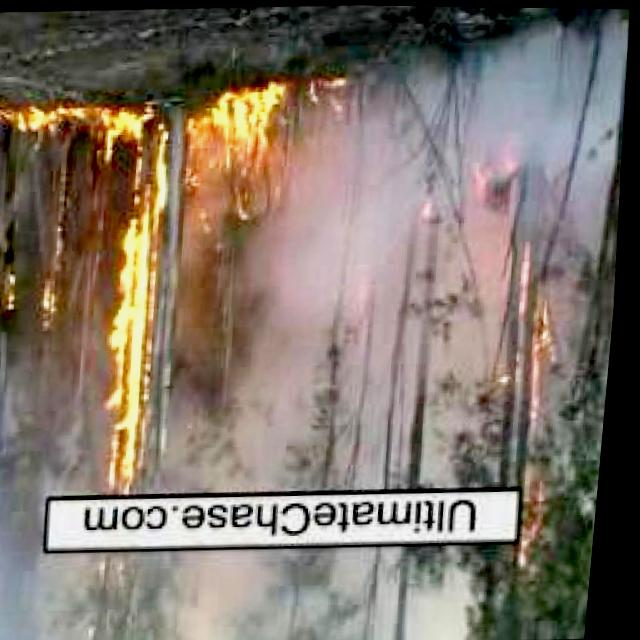Fire: (0, 81, 296, 170), (96, 161, 165, 484), (519, 295, 568, 418), (516, 470, 556, 570), (35, 263, 70, 330), (1, 257, 24, 309)
Smoke: (0, 164, 629, 503), (0, 538, 490, 640)
